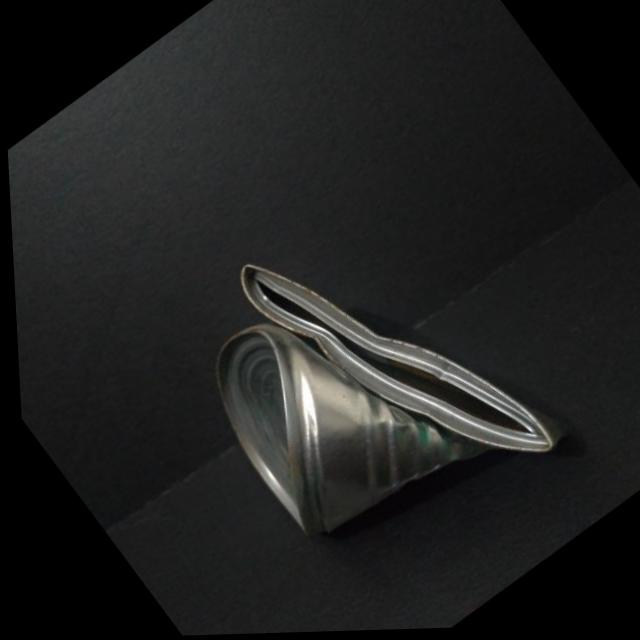metal: (109, 183, 639, 634)
